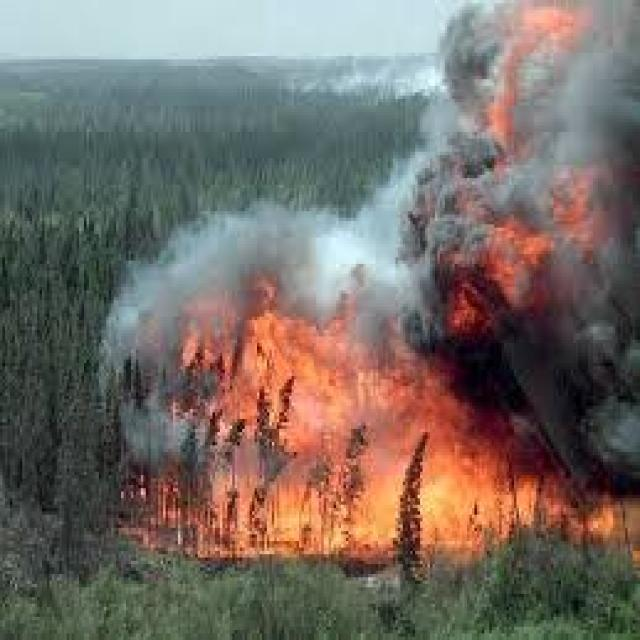Fire: (185, 304, 404, 556), (408, 363, 480, 554), (478, 446, 610, 540)
Smoke: (107, 0, 640, 463)
